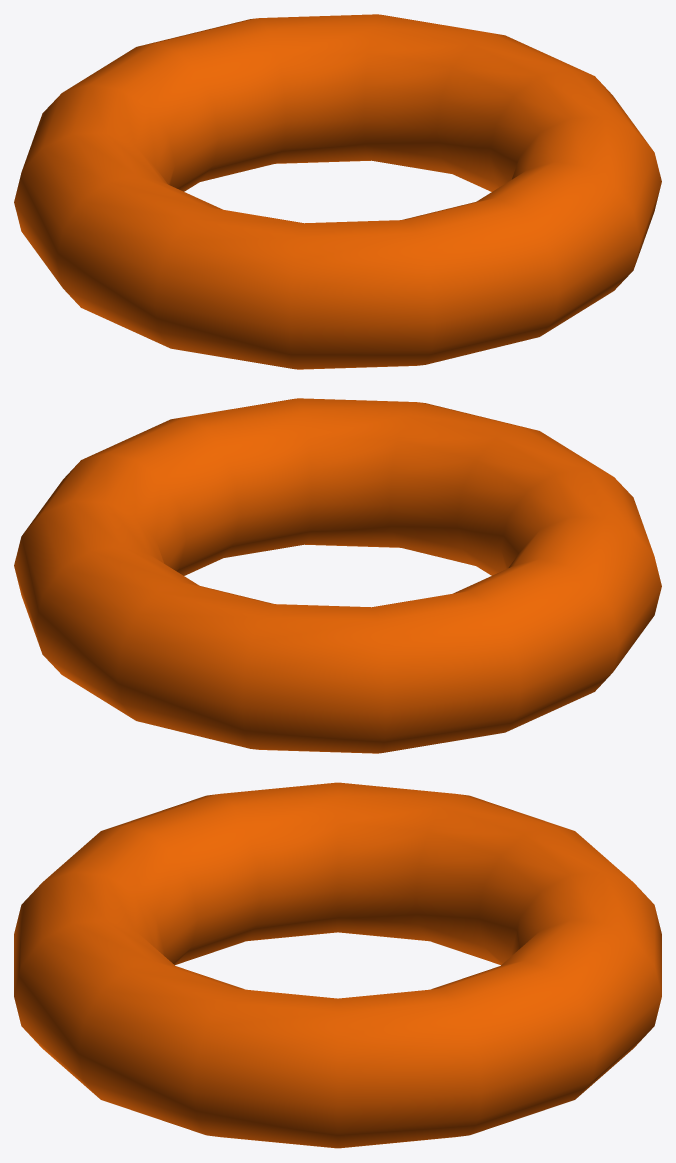
Rendered from Sm_flotador.fbx.
3 renders of one model, top to bottom at view 1: azimuth 30°, elevation 25°; view 2: azimuth 150°, elevation 25°; view 3: azimuth 270°, elevation 25°, orthographic. The views are drawn at different scales.
Parts seen in each view (by area): view 1: pTorus1; view 2: pTorus1; view 3: pTorus1.
Part boxes in pixels (bbox=[...]): pTorus1: bbox=[14, 14, 661, 369]; pTorus1: bbox=[14, 398, 661, 753]; pTorus1: bbox=[14, 782, 661, 1148].
Size of the model in its own units: 5.85 by 1.32 by 5.71.
